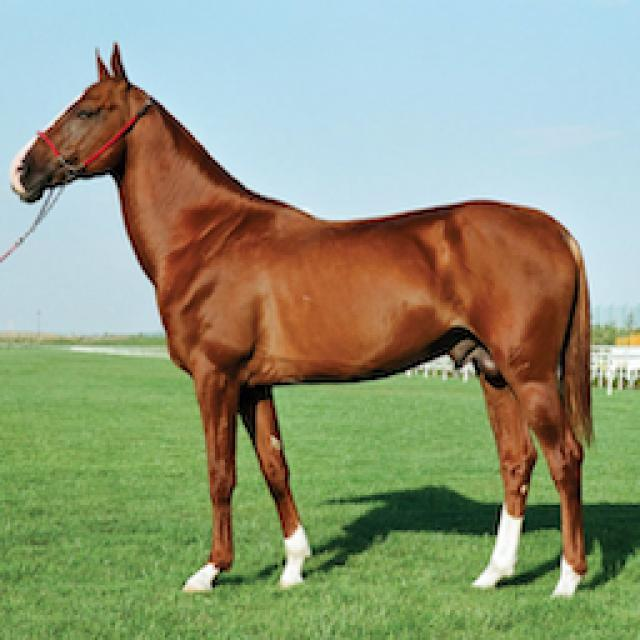Horse: (0, 37, 610, 605)
